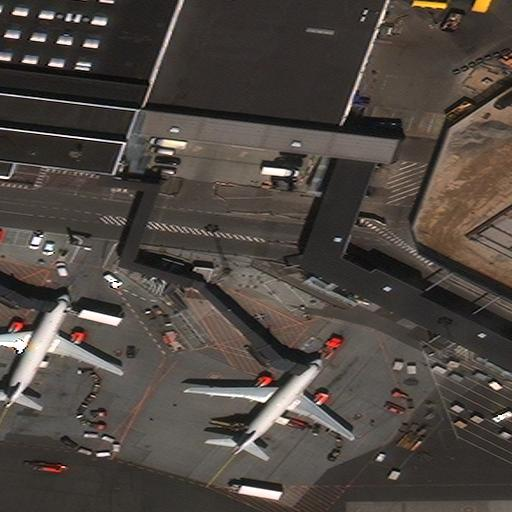Medium Civil Transport: (185, 356, 355, 454), (0, 290, 122, 412)
